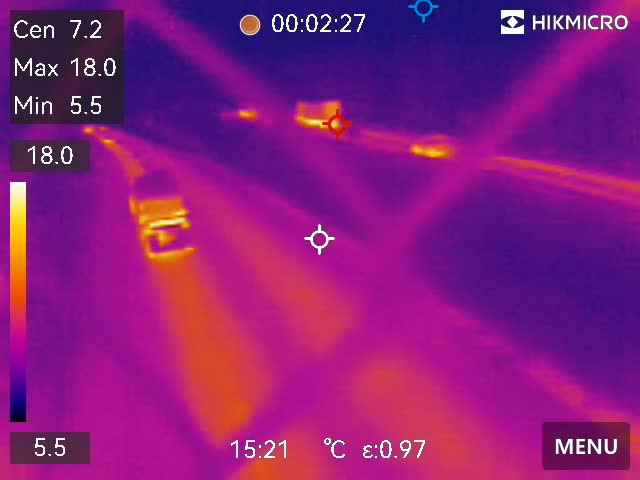heavyTruck: (125, 173, 198, 262), (287, 96, 349, 125)
